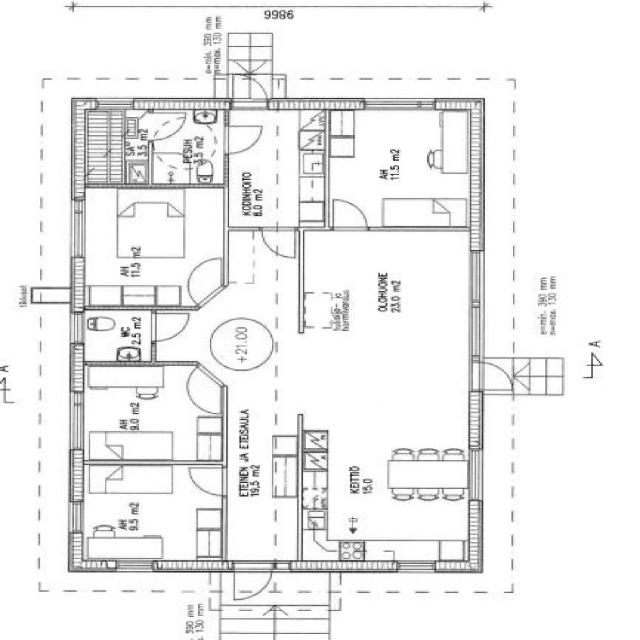door: (181, 368, 227, 417), (181, 254, 226, 302), (228, 560, 275, 604), (144, 308, 193, 347), (184, 462, 231, 499), (473, 359, 519, 396), (220, 122, 267, 156), (257, 225, 299, 261), (230, 74, 272, 108), (329, 196, 369, 231), (140, 111, 185, 141), (308, 536, 337, 554)
window: (462, 248, 494, 364), (62, 388, 88, 457), (64, 195, 88, 262), (266, 455, 300, 500), (464, 447, 488, 506), (359, 97, 439, 112), (61, 496, 88, 536), (370, 224, 463, 234), (65, 309, 86, 348), (109, 558, 156, 575), (394, 558, 439, 574)
zone: (297, 240, 477, 514), (323, 108, 479, 232), (72, 186, 222, 308), (73, 462, 227, 570), (78, 364, 225, 462), (226, 108, 326, 230), (72, 102, 143, 187), (149, 108, 225, 186), (78, 306, 156, 364)
